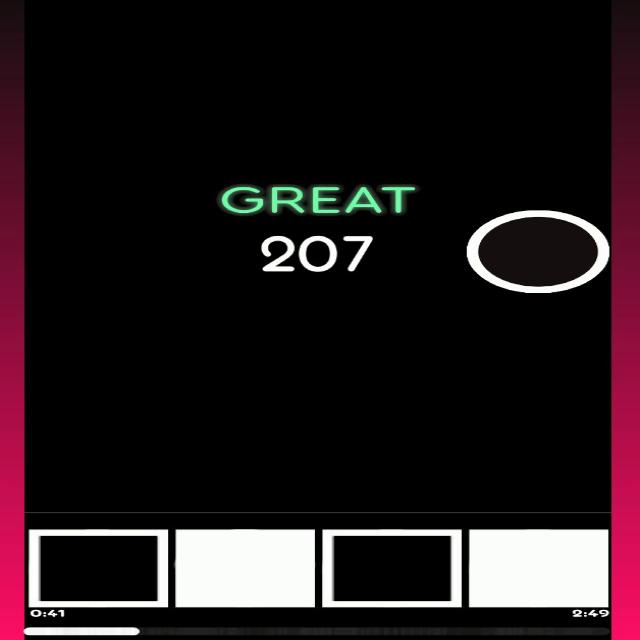note: (466, 209, 610, 295)
